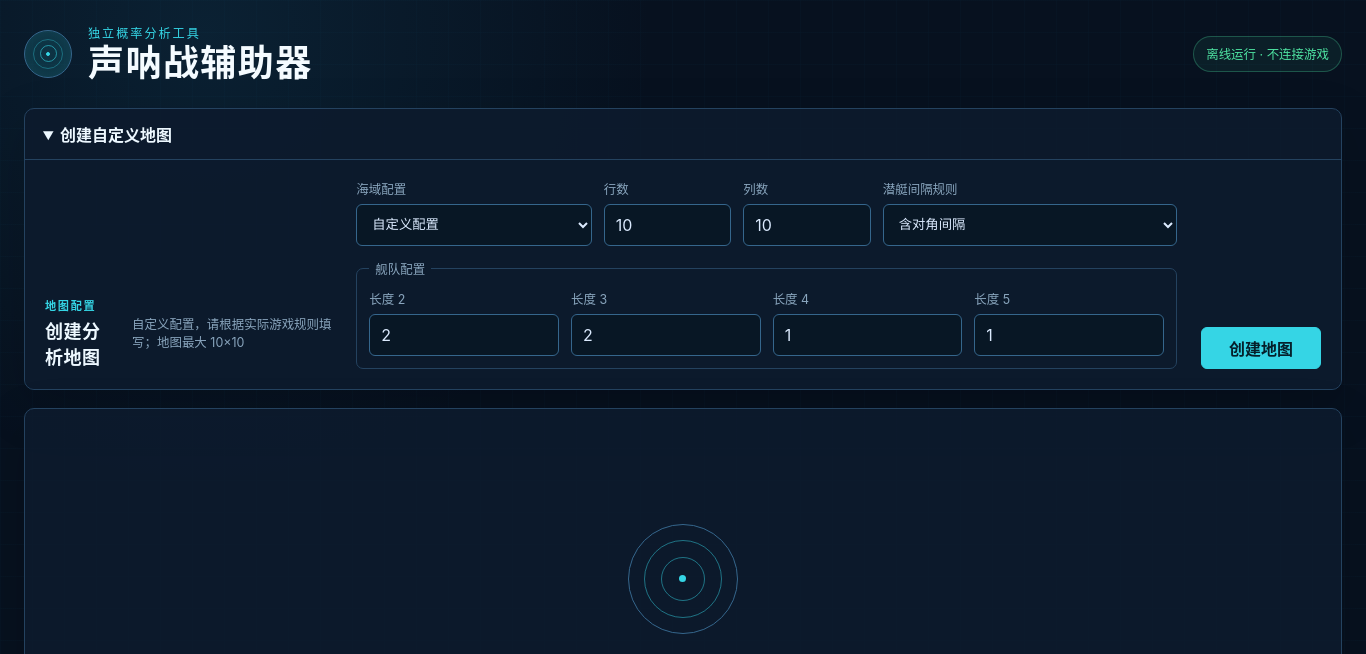
Scenario: App 本地对局持久化 › 概率和推荐结果变化不会触发额外保存
Click the button "创建地图".
click(1261, 348)  # box [1201,327,1321,369]
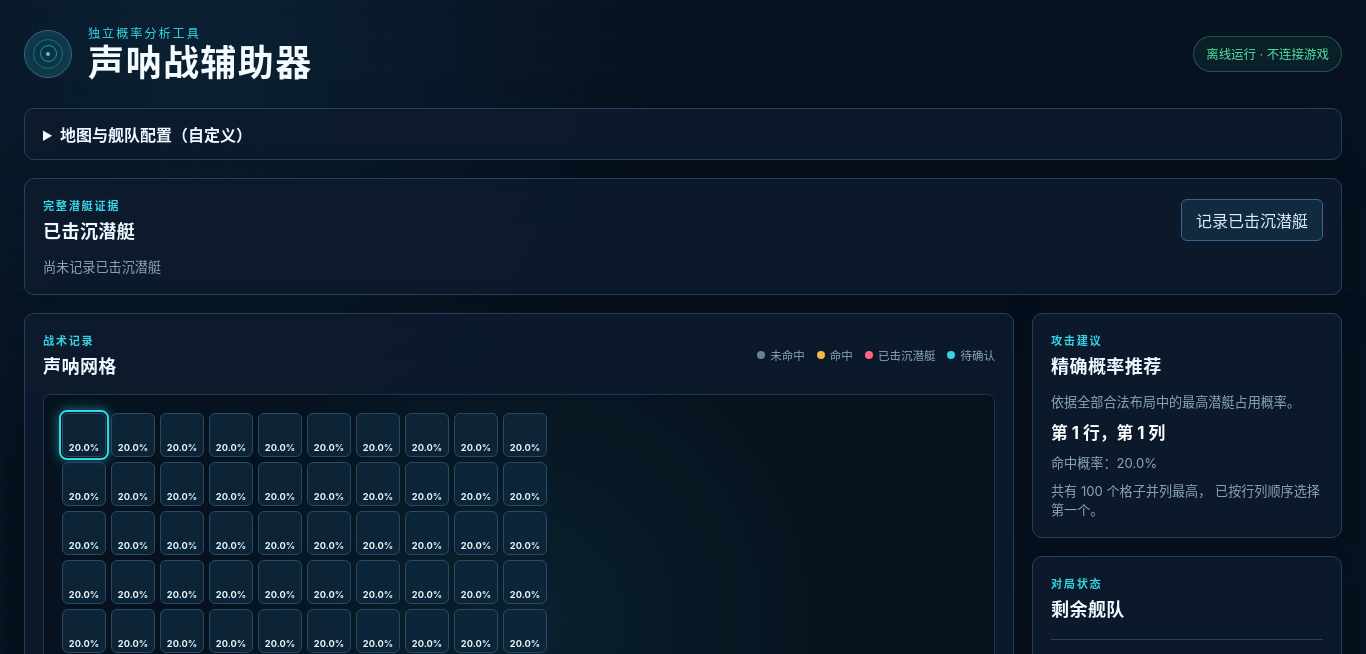
Expected: the heading "声呐网格" is shown, [43,352,117,378]
Expected: the heading "精确概率推荐" is shown, [1051,355,1162,377]
